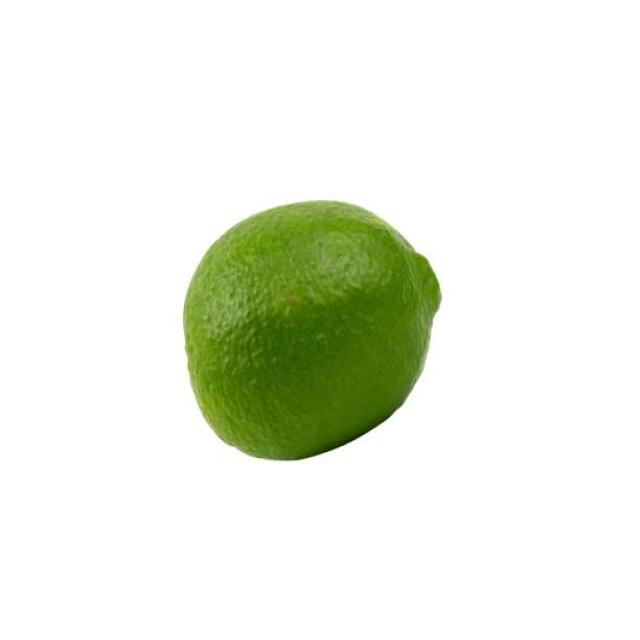Unripe: (183, 198, 442, 462)
